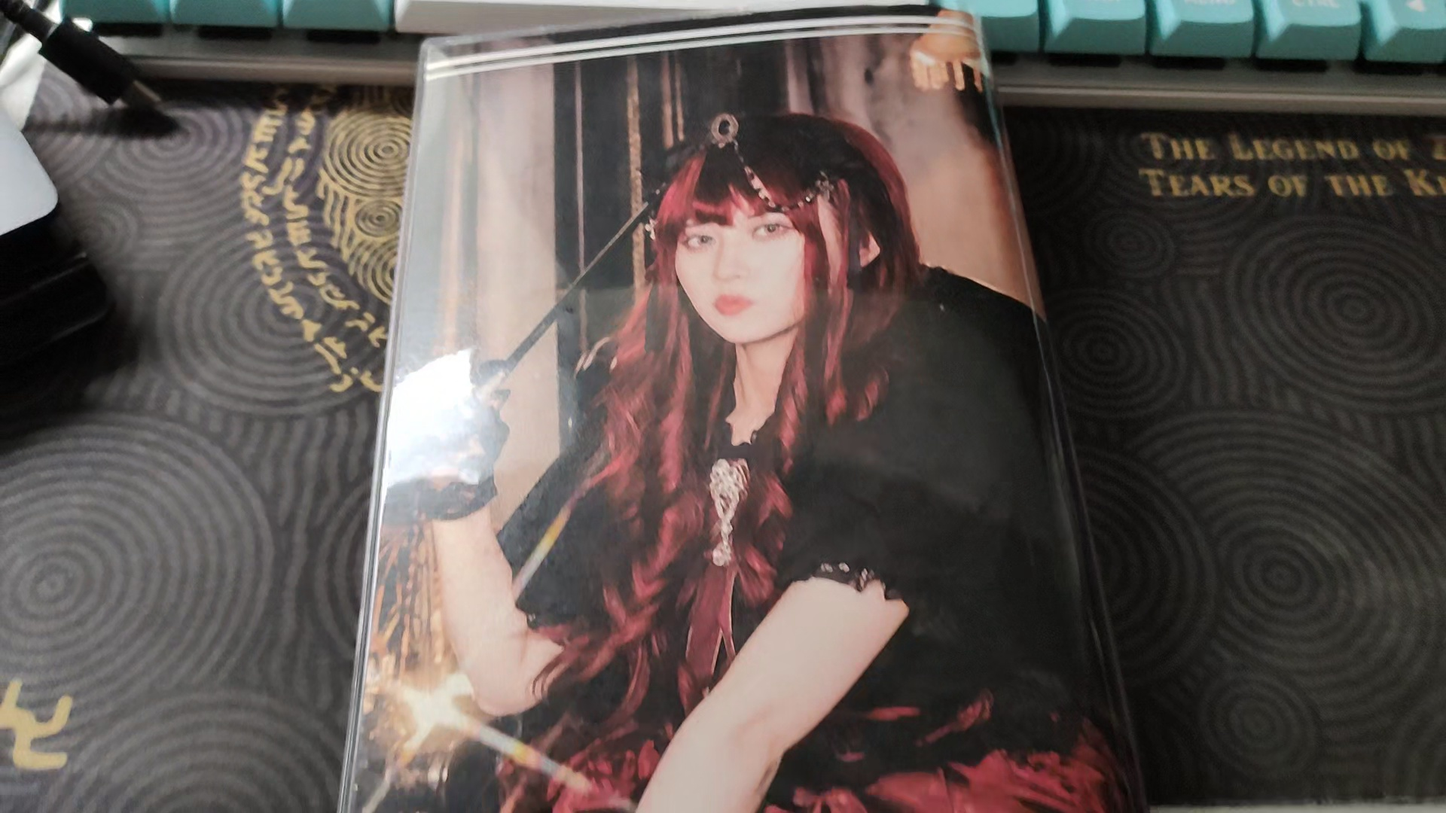Photo_book: (339, 3, 1153, 813)
